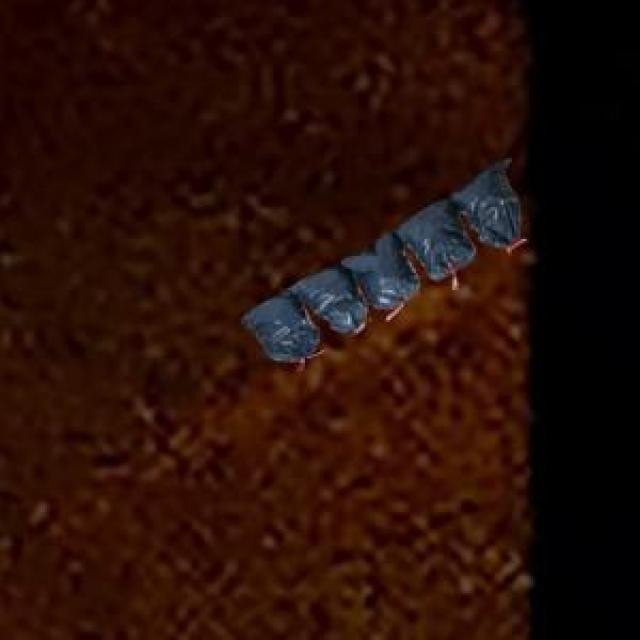Trashbag: (404, 182, 487, 272), (468, 158, 544, 255), (287, 256, 375, 335), (348, 223, 424, 304), (239, 294, 310, 378)
